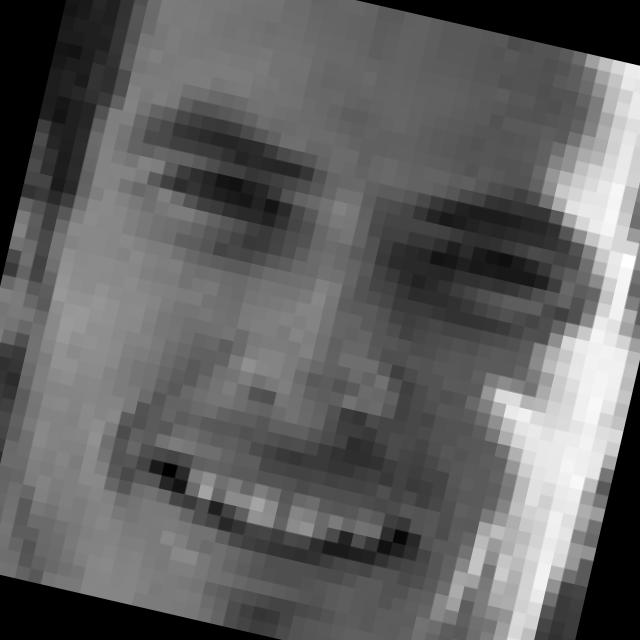happy: (22, 95, 623, 640)
